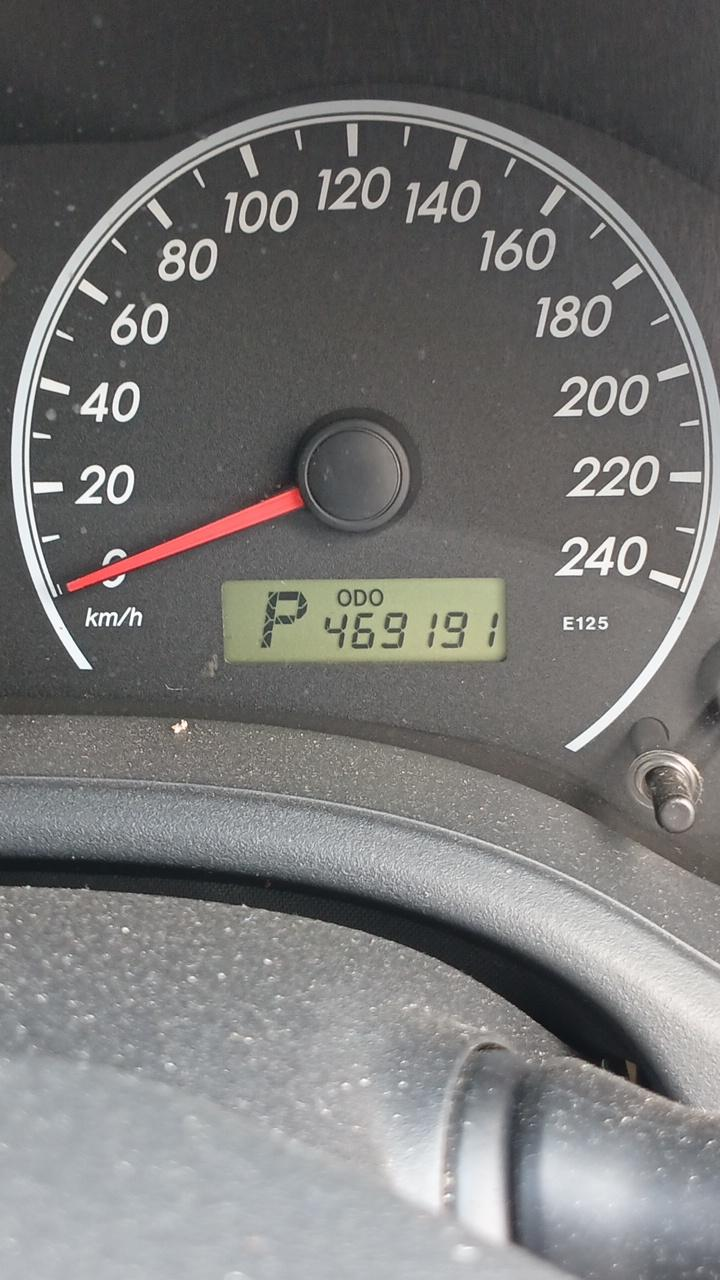1: (486, 612, 501, 649), (427, 613, 439, 649)
4: (324, 613, 348, 650)
6: (350, 611, 376, 651)
9: (379, 612, 411, 650), (440, 611, 468, 650)
X: (260, 590, 308, 649), (369, 589, 384, 607), (337, 589, 351, 607), (353, 589, 367, 607)
odometer: (220, 577, 510, 666)
